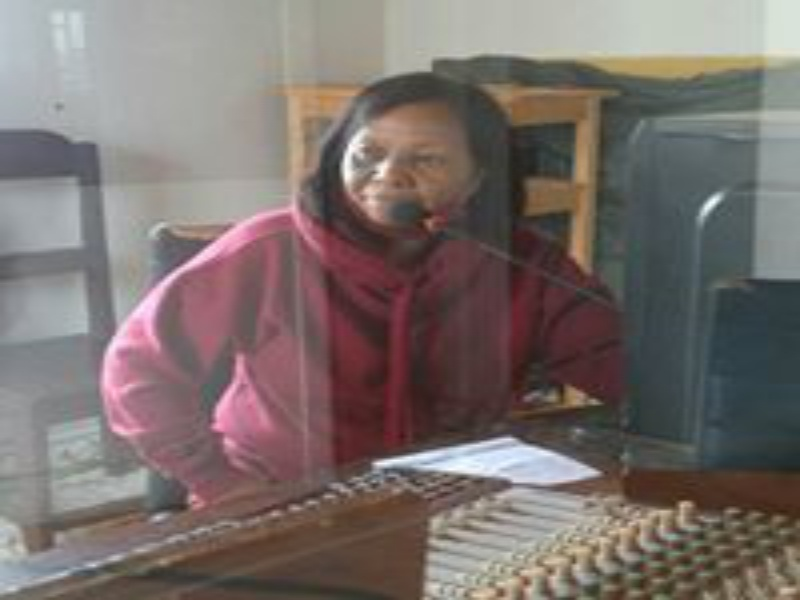TsisyArotava: (329, 69, 479, 245)
